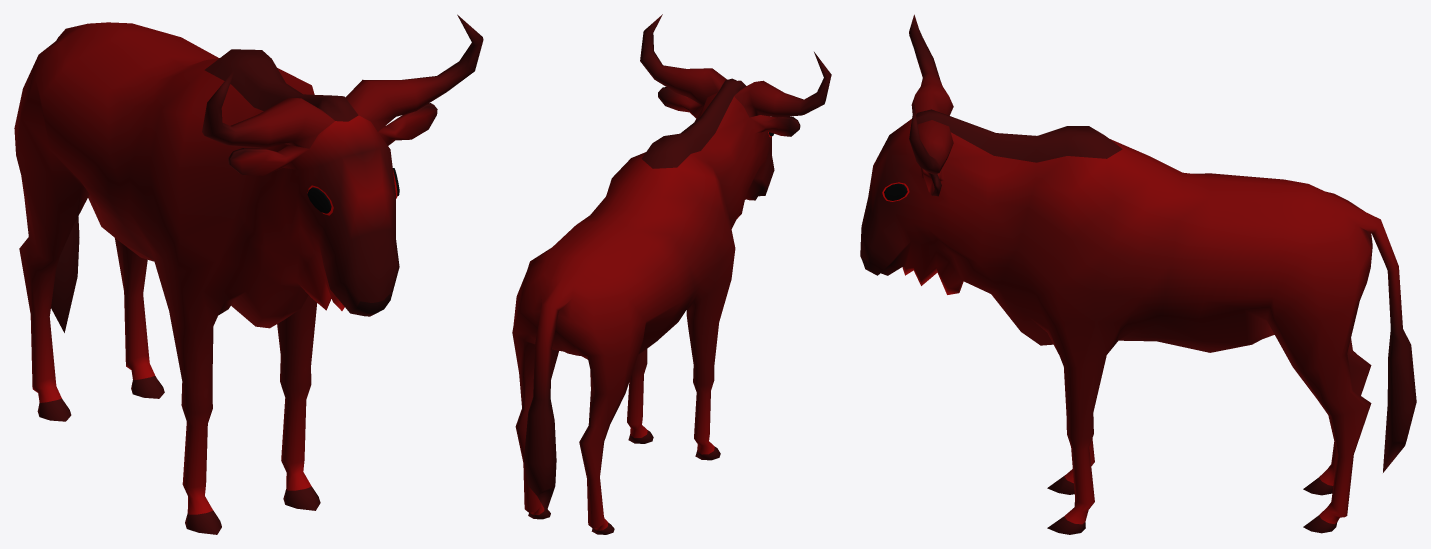
File: Animals_Wildebeest.fbx
The picture shows the model from 3 angles, left to right: view 1: azimuth 30°, elevation 25°; view 2: azimuth 150°, elevation 25°; view 3: azimuth 270°, elevation 25°; orthographic projection. The views are drawn at different scales.
Visible parts, largest first — view 1: base; view 2: base; view 3: base.
Part boxes in pixels (bbox=[...]): base: bbox=[14, 14, 483, 534]; base: bbox=[512, 14, 831, 534]; base: bbox=[860, 14, 1416, 534].
Bounding box in the file's own units: 85.62 × 161 × 181.
